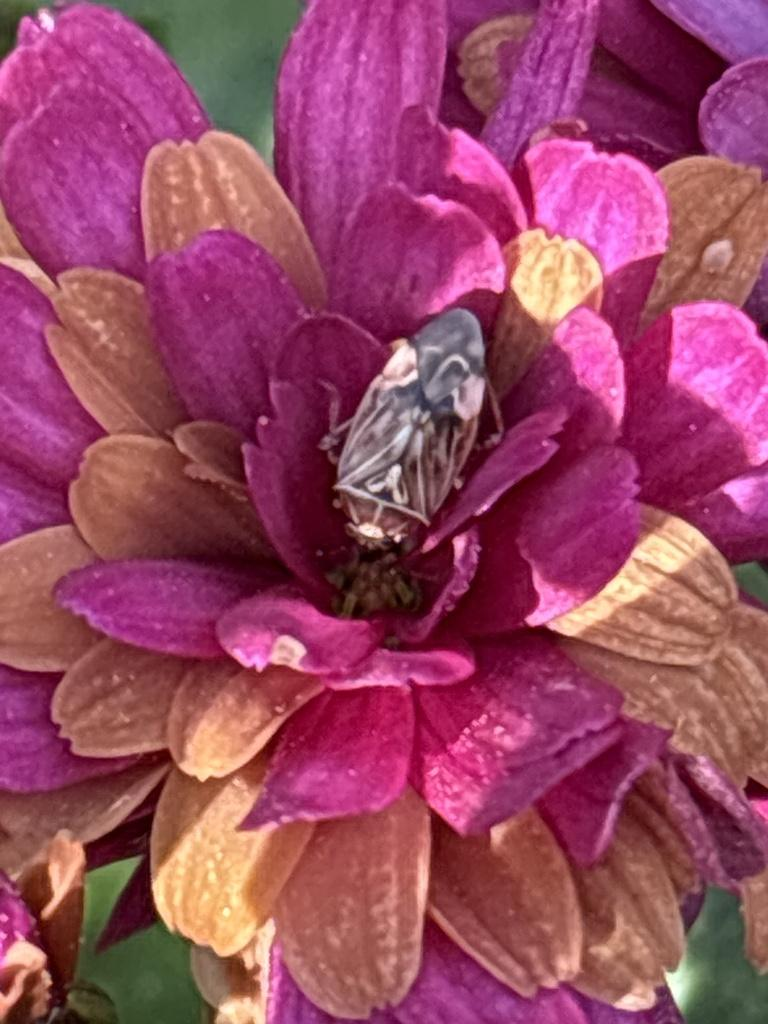plant_bugs: (238, 258, 534, 570)
